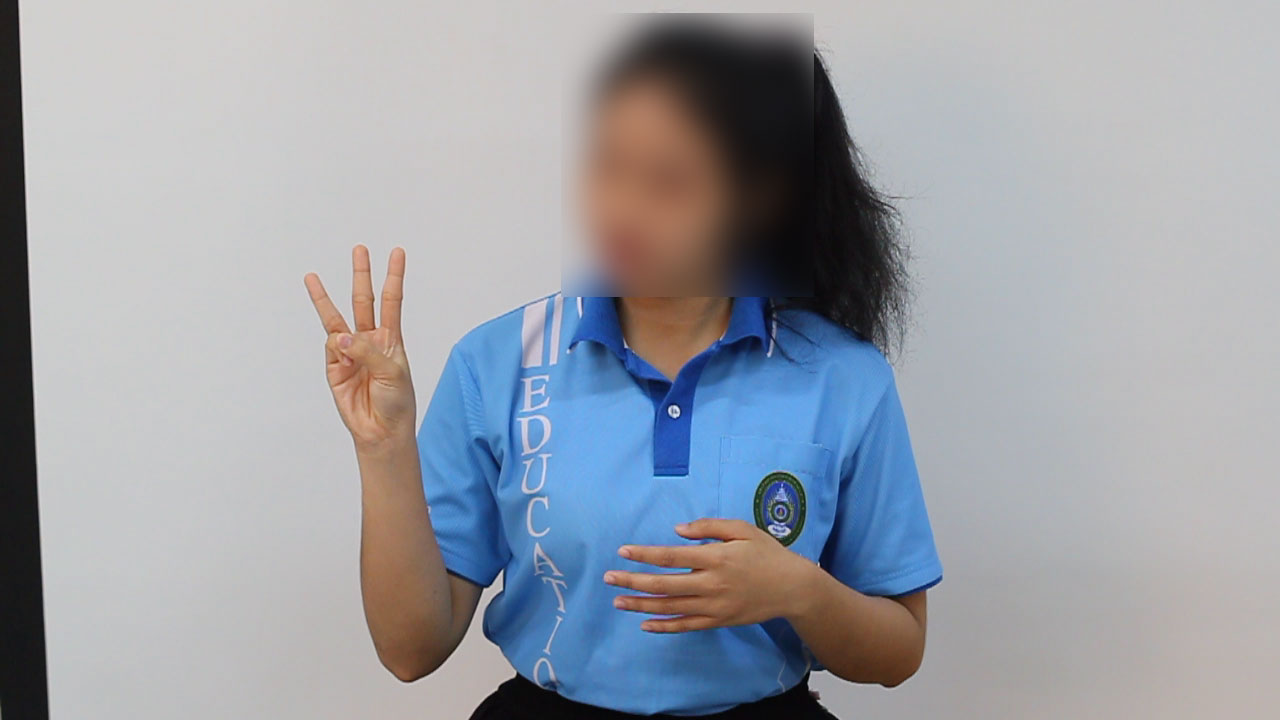wor: (296, 236, 424, 449)
